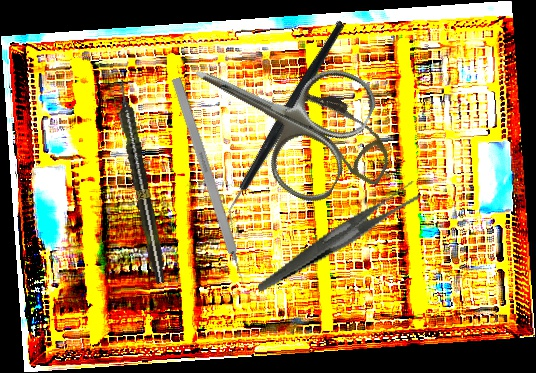Cannula: (273, 78, 405, 188)
Chopper: (171, 19, 401, 232)
Dressing Forceps: (242, 180, 433, 292)
Handpiece: (112, 78, 170, 285)
Hook Surgical: (170, 76, 251, 293)
Iris Scissors: (166, 11, 384, 210)
